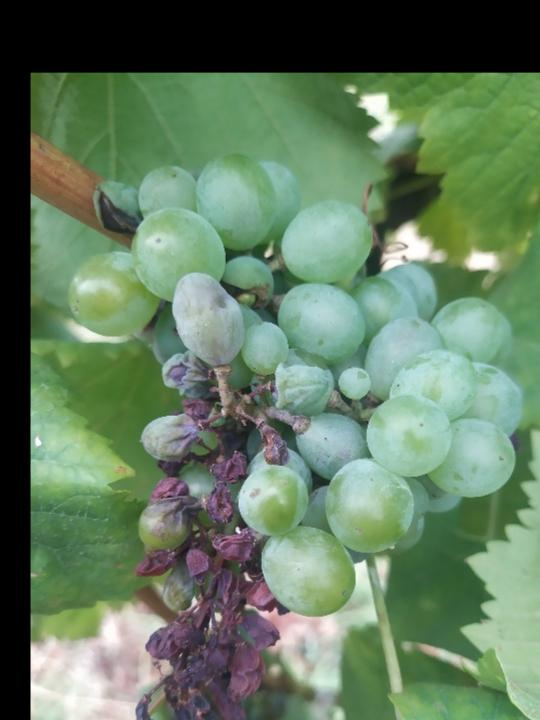grape: (65, 148, 530, 720)
